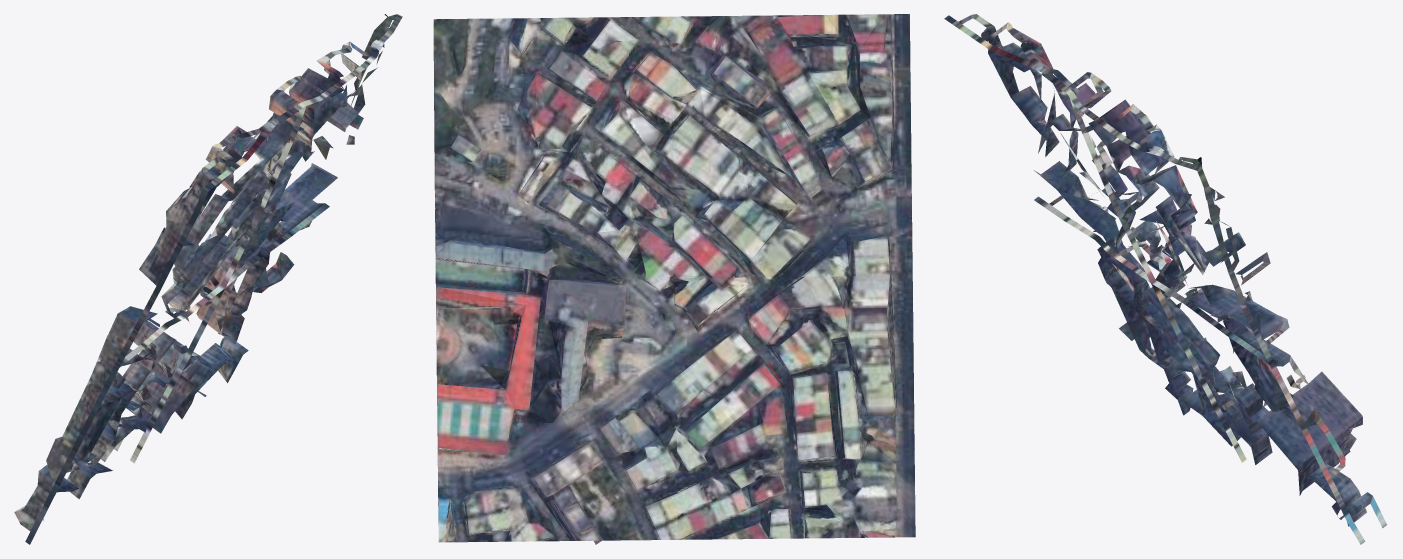
The picture shows the model from 3 angles, left to right: view 1: azimuth 30°, elevation 25°; view 2: azimuth 150°, elevation 25°; view 3: azimuth 270°, elevation 25°; orthographic projection. The views are drawn at different scales.
Bounding box in the file's own units: 301 × 287 × 272.
1 material, 1 textured.
